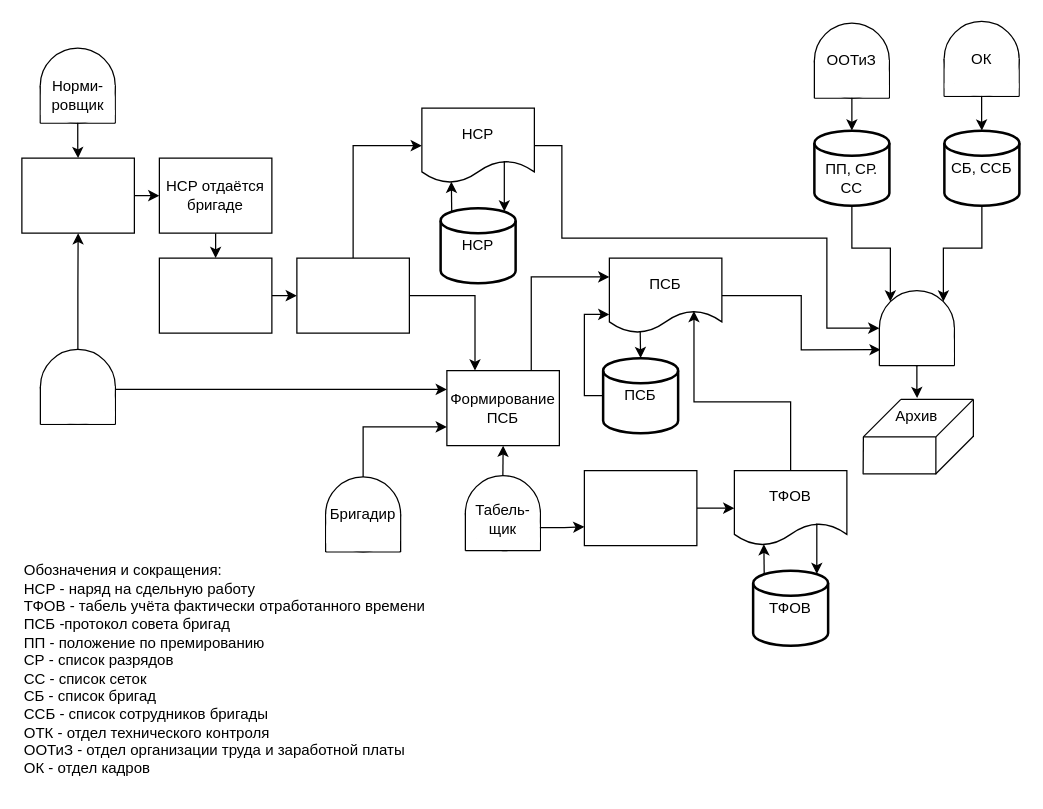
Image size: 1043x809. Some labels were removed from this diagram. The box of each missing label's shape, as (x1, y1, x2, y2) in pixels:
Бухгалтер: (878, 289, 954, 366)
Выполняется НСР: (158, 257, 272, 333)
Началь-ник участка: (39, 348, 115, 424)
Сдаётся готовая продукция в ОТК: (296, 257, 409, 333)
Формирование НСР: (21, 157, 134, 233)
Формирование ТФОВ: (583, 469, 697, 546)
